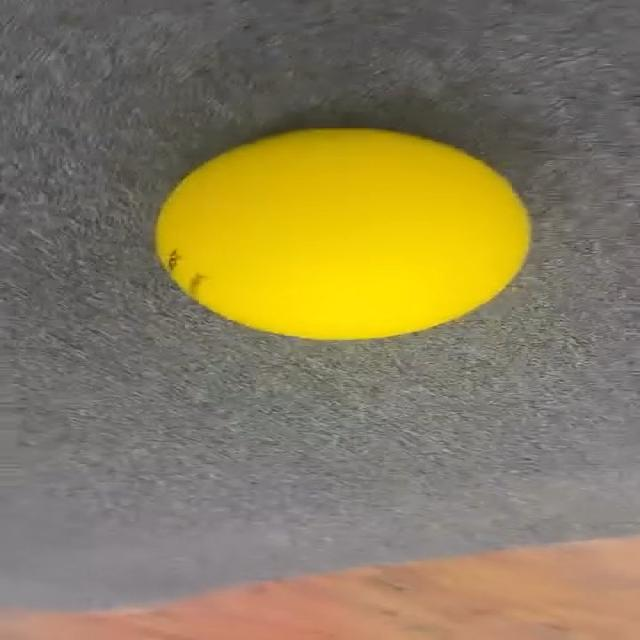Fuels: (151, 127, 532, 337)
